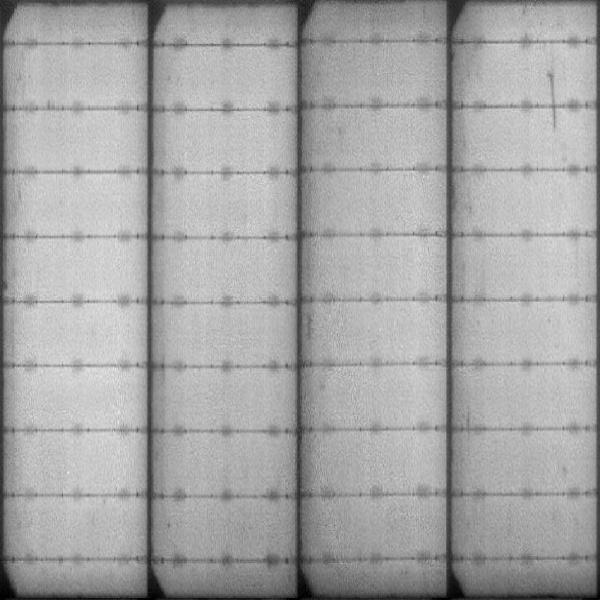scratch: (547, 72, 563, 134)
